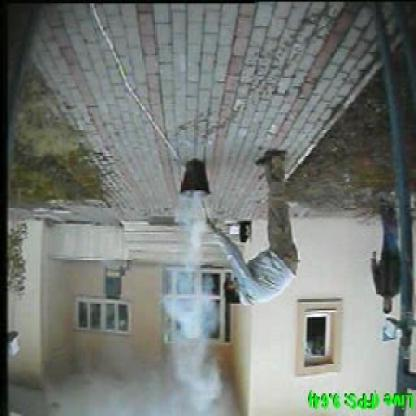Smoke: (156, 193, 227, 415)
